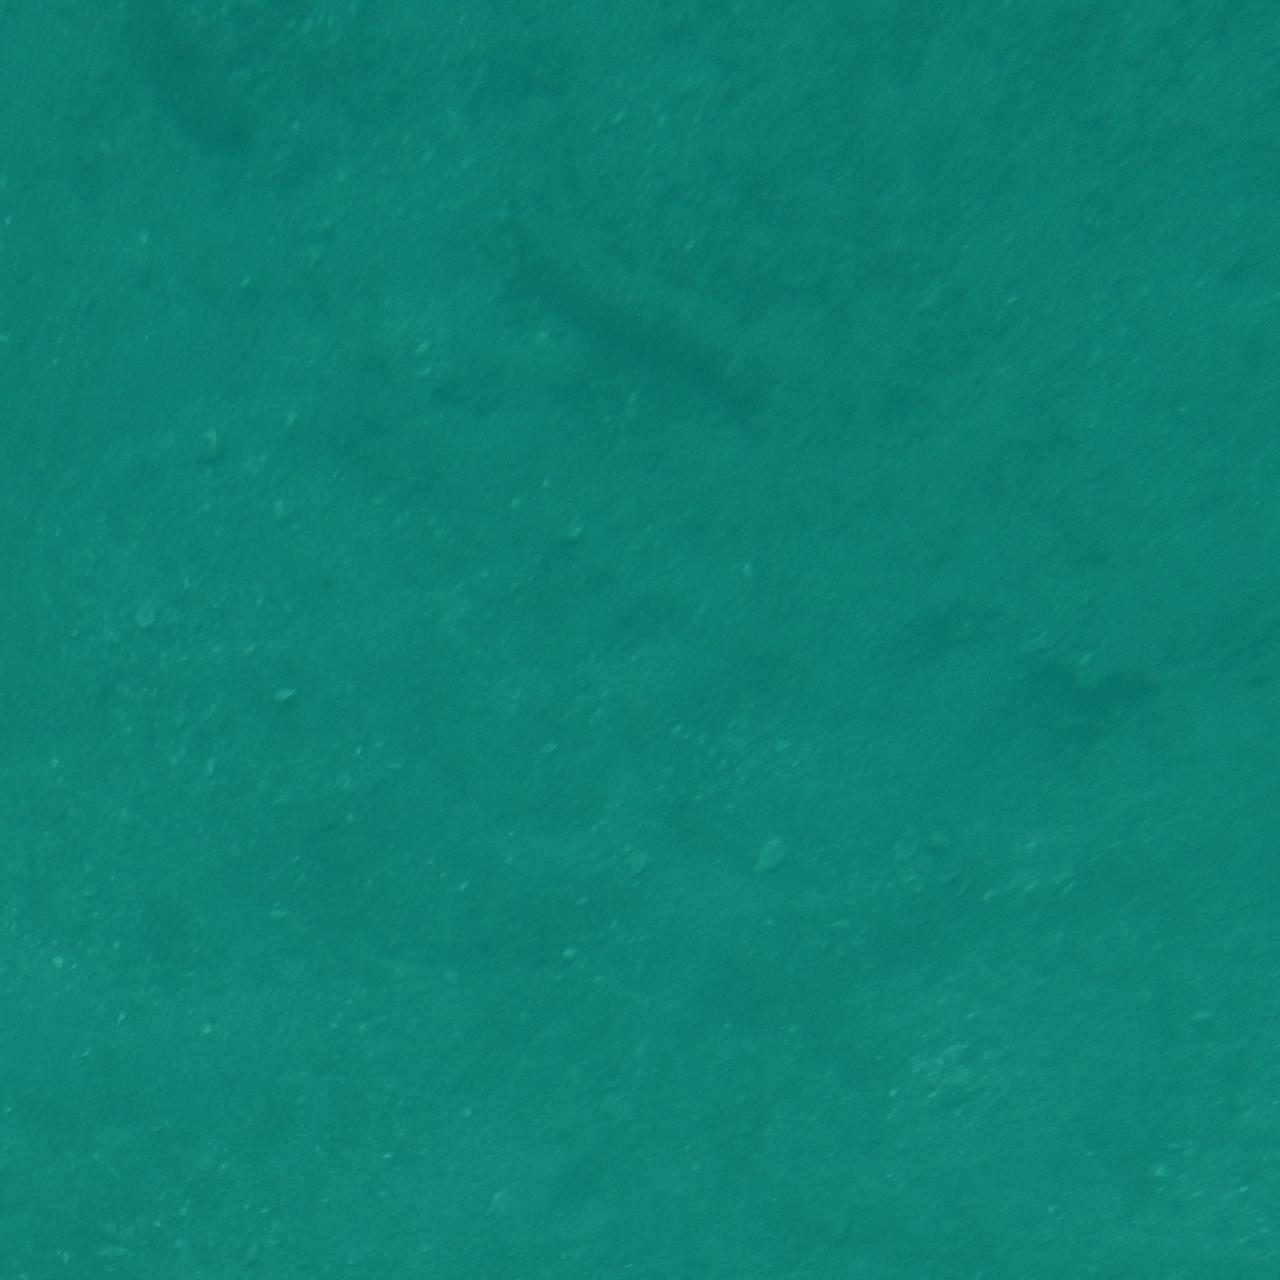Holothuria tubulosa: (484, 168, 796, 428)
